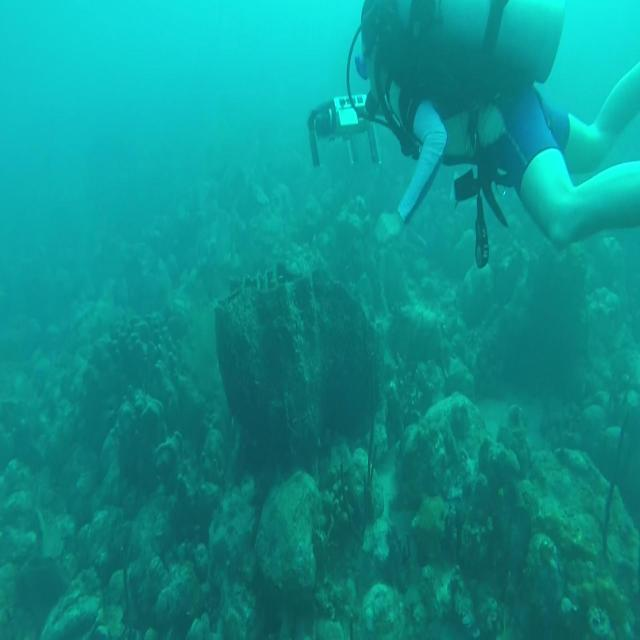human: (307, 1, 638, 269)
